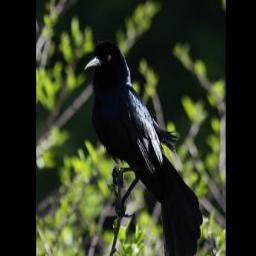Crow: (83, 37, 202, 256)
